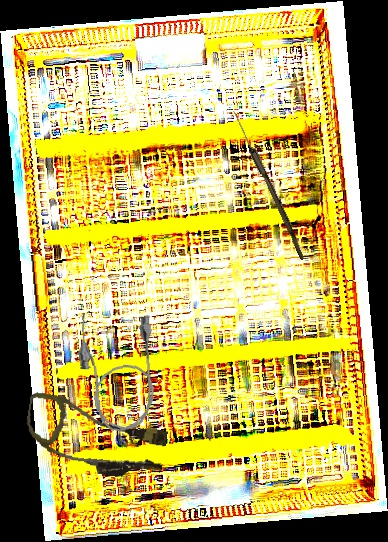Cannula: (20, 391, 171, 484), (74, 306, 161, 435)
Surgical Spoon: (229, 109, 309, 261)
